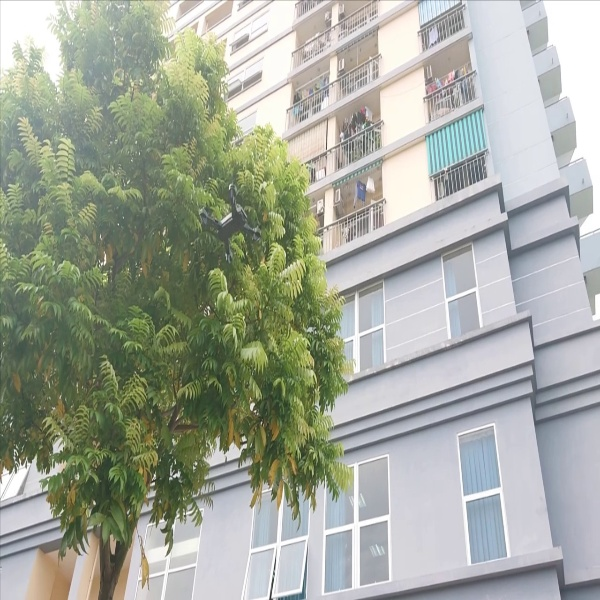drone: (188, 177, 267, 266)
